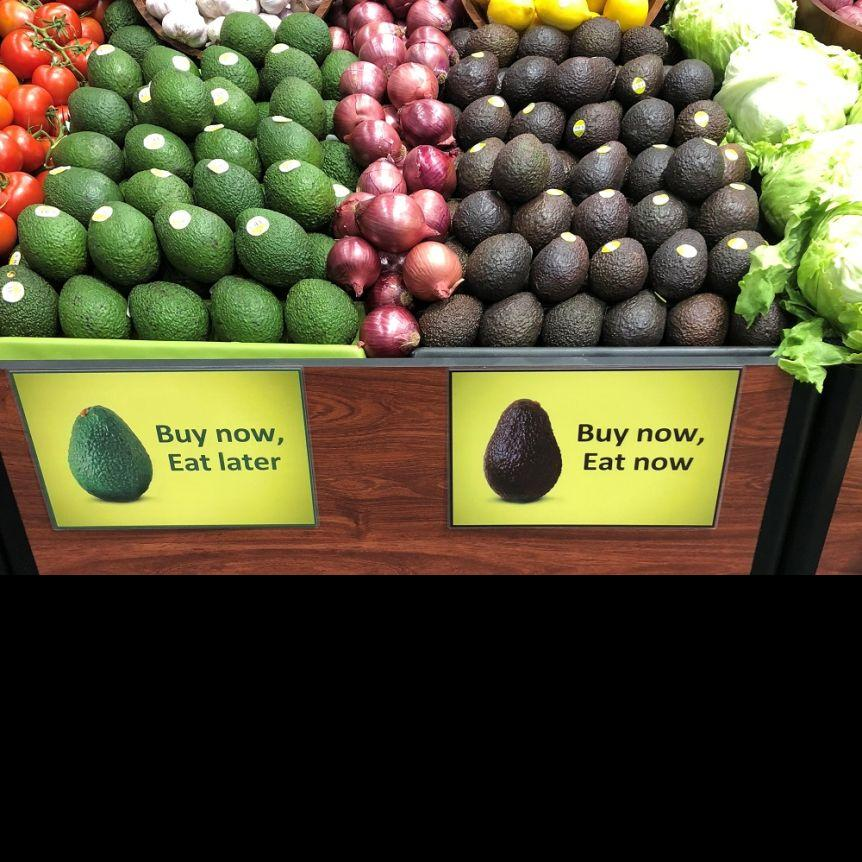ripe: (483, 399, 562, 504), (467, 232, 532, 296), (649, 229, 708, 299), (696, 181, 760, 243), (495, 133, 550, 202), (709, 230, 767, 292), (533, 235, 590, 297), (666, 137, 723, 199), (590, 237, 649, 296), (454, 190, 511, 249), (514, 188, 575, 243), (604, 292, 667, 345), (418, 295, 482, 346), (484, 292, 543, 347), (668, 292, 728, 346), (457, 94, 512, 152), (572, 140, 627, 197), (545, 294, 605, 346), (446, 51, 499, 109), (575, 190, 630, 244), (634, 190, 687, 245), (566, 100, 624, 150), (550, 56, 616, 99), (501, 55, 558, 104), (457, 136, 505, 193), (508, 102, 566, 147), (622, 98, 674, 148), (630, 144, 676, 196), (677, 100, 728, 146), (665, 58, 714, 104), (618, 54, 664, 102), (570, 18, 621, 60), (465, 24, 519, 62), (520, 24, 571, 60), (620, 26, 668, 61)
unripe: (68, 405, 152, 502), (153, 201, 235, 281), (233, 208, 313, 288), (87, 202, 158, 281), (17, 204, 87, 281), (264, 159, 337, 231), (42, 166, 125, 227), (128, 282, 210, 342), (285, 278, 359, 344), (209, 276, 282, 342), (193, 158, 266, 223), (58, 275, 129, 339), (193, 127, 264, 187), (150, 69, 215, 133), (125, 123, 192, 183), (2, 264, 57, 337), (52, 131, 124, 184), (257, 116, 326, 169), (202, 76, 260, 139), (123, 170, 194, 220), (269, 76, 325, 137), (201, 43, 260, 100), (68, 87, 134, 137), (263, 46, 323, 94), (87, 44, 142, 96), (275, 12, 331, 61), (220, 11, 276, 59), (142, 47, 201, 82)
